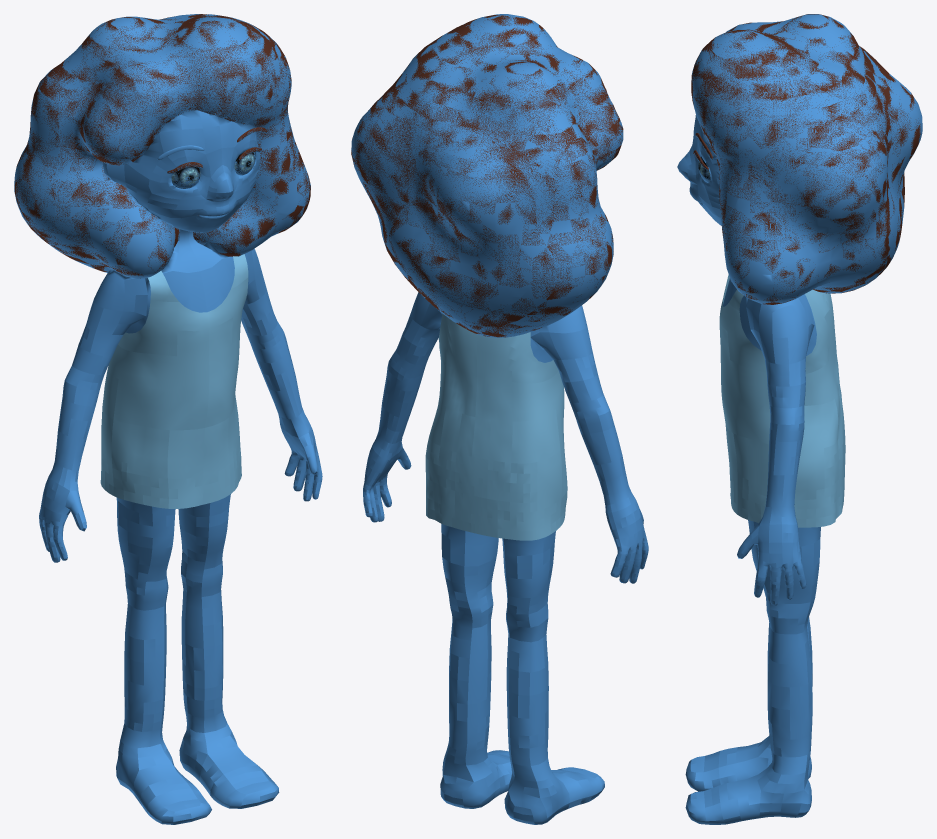
The model's file is girl.gltf.
3 views of the same model, side by side, from view 1: azimuth 30°, elevation 25°; view 2: azimuth 150°, elevation 25°; view 3: azimuth 270°, elevation 25° (orthographic).
Parts seen in each view (by area): view 1: Cube, Cube.001, Mball.017, Eyes, merged; view 2: Cube, Mball.017, Cube.001; view 3: Cube, Mball.017, Cube.001.
Part boxes in pixels (bbox=[...]): Cube: bbox=[14, 14, 322, 824]; Cube.001: bbox=[100, 254, 248, 508]; Mball.017: bbox=[14, 14, 310, 278]; Eyes: bbox=[167, 127, 266, 187]; merged: bbox=[157, 128, 267, 188]; Cube: bbox=[351, 14, 648, 824]; Mball.017: bbox=[351, 15, 623, 337]; Cube.001: bbox=[425, 313, 567, 540]; Cube: bbox=[677, 14, 922, 824]; Mball.017: bbox=[691, 14, 920, 304]; Cube.001: bbox=[719, 274, 845, 527].
Size of the model in its own units: 1.57 by 4.27 by 1.23.
4 materials, 1 textured.
